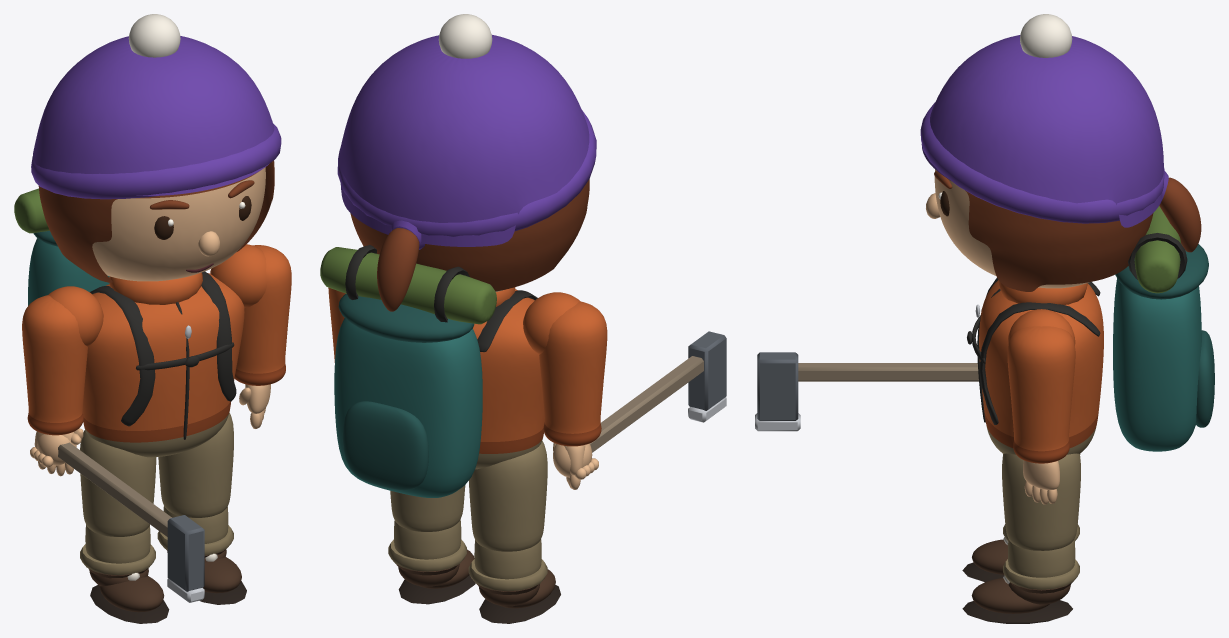
The model's file is hiker-2.glb.
3 views of the same model, side by side, from view 1: azimuth 30°, elevation 25°; view 2: azimuth 150°, elevation 25°; view 3: azimuth 270°, elevation 25° (orthographic). The views are drawn at different scales.
Visible parts, largest first — view 1: Hiker2_Head, Hiker2_Torso, Hiker2_ArmR, Hiker2_ArmL, Hiker2_ShinR, Hiker2_Axe, Hiker2_LegL, Hiker2_LegR, Hiker2_ShinL, Hiker2_FistR, Hiker2_HandR; view 2: Hiker2_Head, Hiker2_Torso, Hiker2_ArmR, Hiker2_LegR, Hiker2_ShinR, Hiker2_Axe, Hiker2_ShinL, Hiker2_LegL, Hiker2_FistR, Hiker2_ArmL, Hiker2_HandR; view 3: Hiker2_Head, Hiker2_Torso, Hiker2_ArmL, Hiker2_Axe, Hiker2_ShinL, Hiker2_LegL, Hiker2_ShinR.
Part boxes in pixels (x1,y1,x2,y2): Hiker2_Head: (31, 14, 281, 282); Hiker2_Torso: (14, 188, 266, 457); Hiker2_ArmR: (22, 295, 87, 435); Hiker2_ArmL: (234, 245, 291, 428); Hiker2_ShinR: (80, 525, 169, 623); Hiker2_Axe: (58, 442, 204, 602); Hiker2_LegL: (158, 412, 233, 517); Hiker2_LegR: (80, 430, 156, 536); Hiker2_ShinL: (157, 506, 246, 604); Hiker2_FistR: (30, 433, 81, 467); Hiker2_HandR: (34, 428, 83, 476); Hiker2_Head: (337, 14, 596, 311); Hiker2_Torso: (320, 245, 580, 497); Hiker2_ArmR: (539, 301, 607, 446); Hiker2_LegR: (469, 441, 547, 551); Hiker2_ShinR: (468, 539, 560, 623); Hiker2_Axe: (589, 331, 726, 452); Hiker2_ShinL: (388, 519, 475, 604); Hiker2_LegL: (390, 485, 465, 531); Hiker2_FistR: (553, 443, 598, 479); Hiker2_ArmL: (328, 287, 345, 362); Hiker2_HandR: (553, 443, 585, 489); Hiker2_Head: (920, 14, 1201, 291); Hiker2_Torso: (967, 206, 1214, 454); Hiker2_ArmL: (1007, 326, 1075, 504); Hiker2_Axe: (755, 352, 978, 431); Hiker2_ShinL: (962, 539, 1079, 623); Hiker2_LegL: (1002, 453, 1080, 550); Hiker2_ShinR: (962, 524, 1079, 581).
Bounding box in the file's own units: 0.6695 × 1.41 × 1.01.
